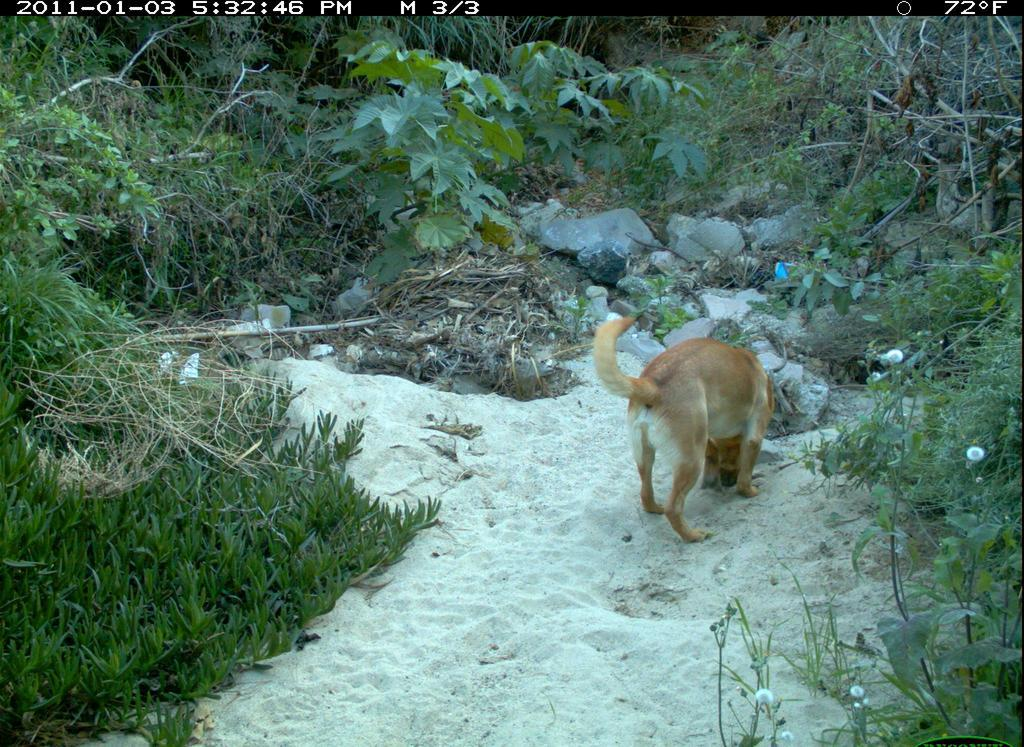dog: (589, 309, 801, 553)
